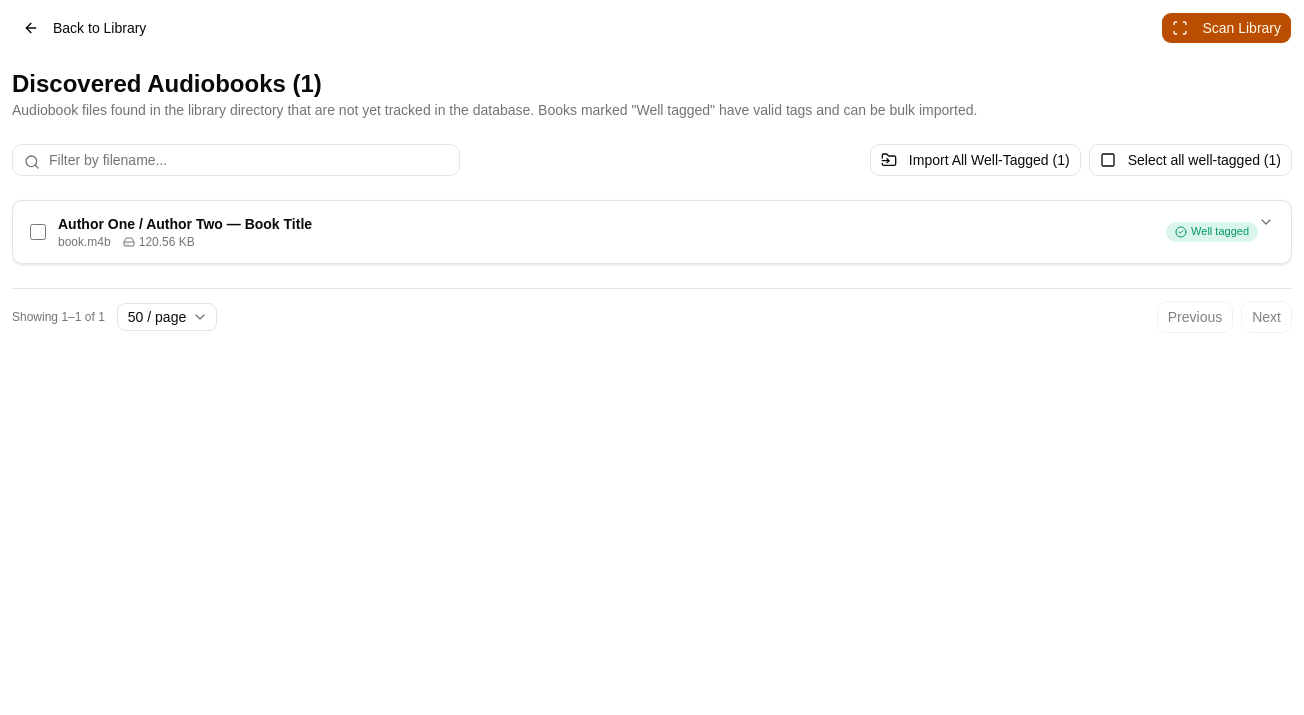
DiscoveredAudiobooks › populates the edit form's authors field and the file path from the flat DTO fields
Step 1. Click the text "Book Title" → (185, 224), box [58, 216, 312, 232]
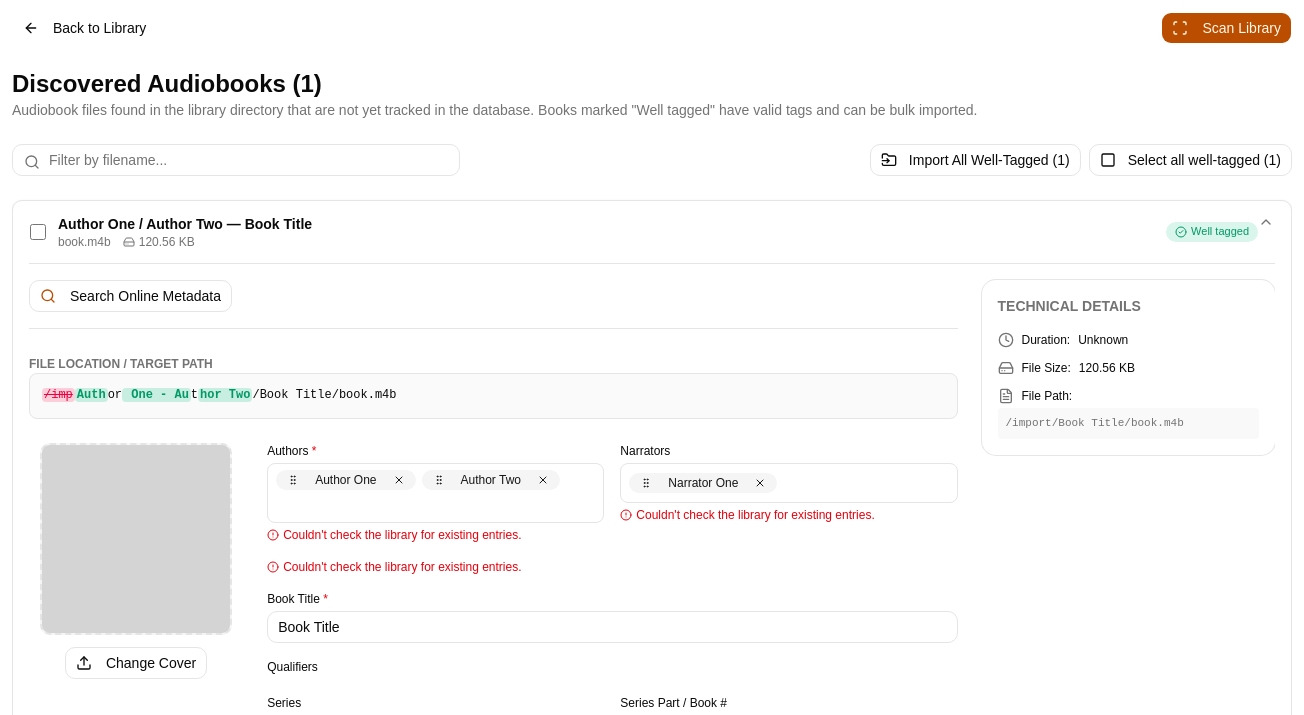
Result: the button "Author One" is shown at [309, 470, 382, 490]
Result: the button "Author Two" is shown at [454, 470, 527, 490]
